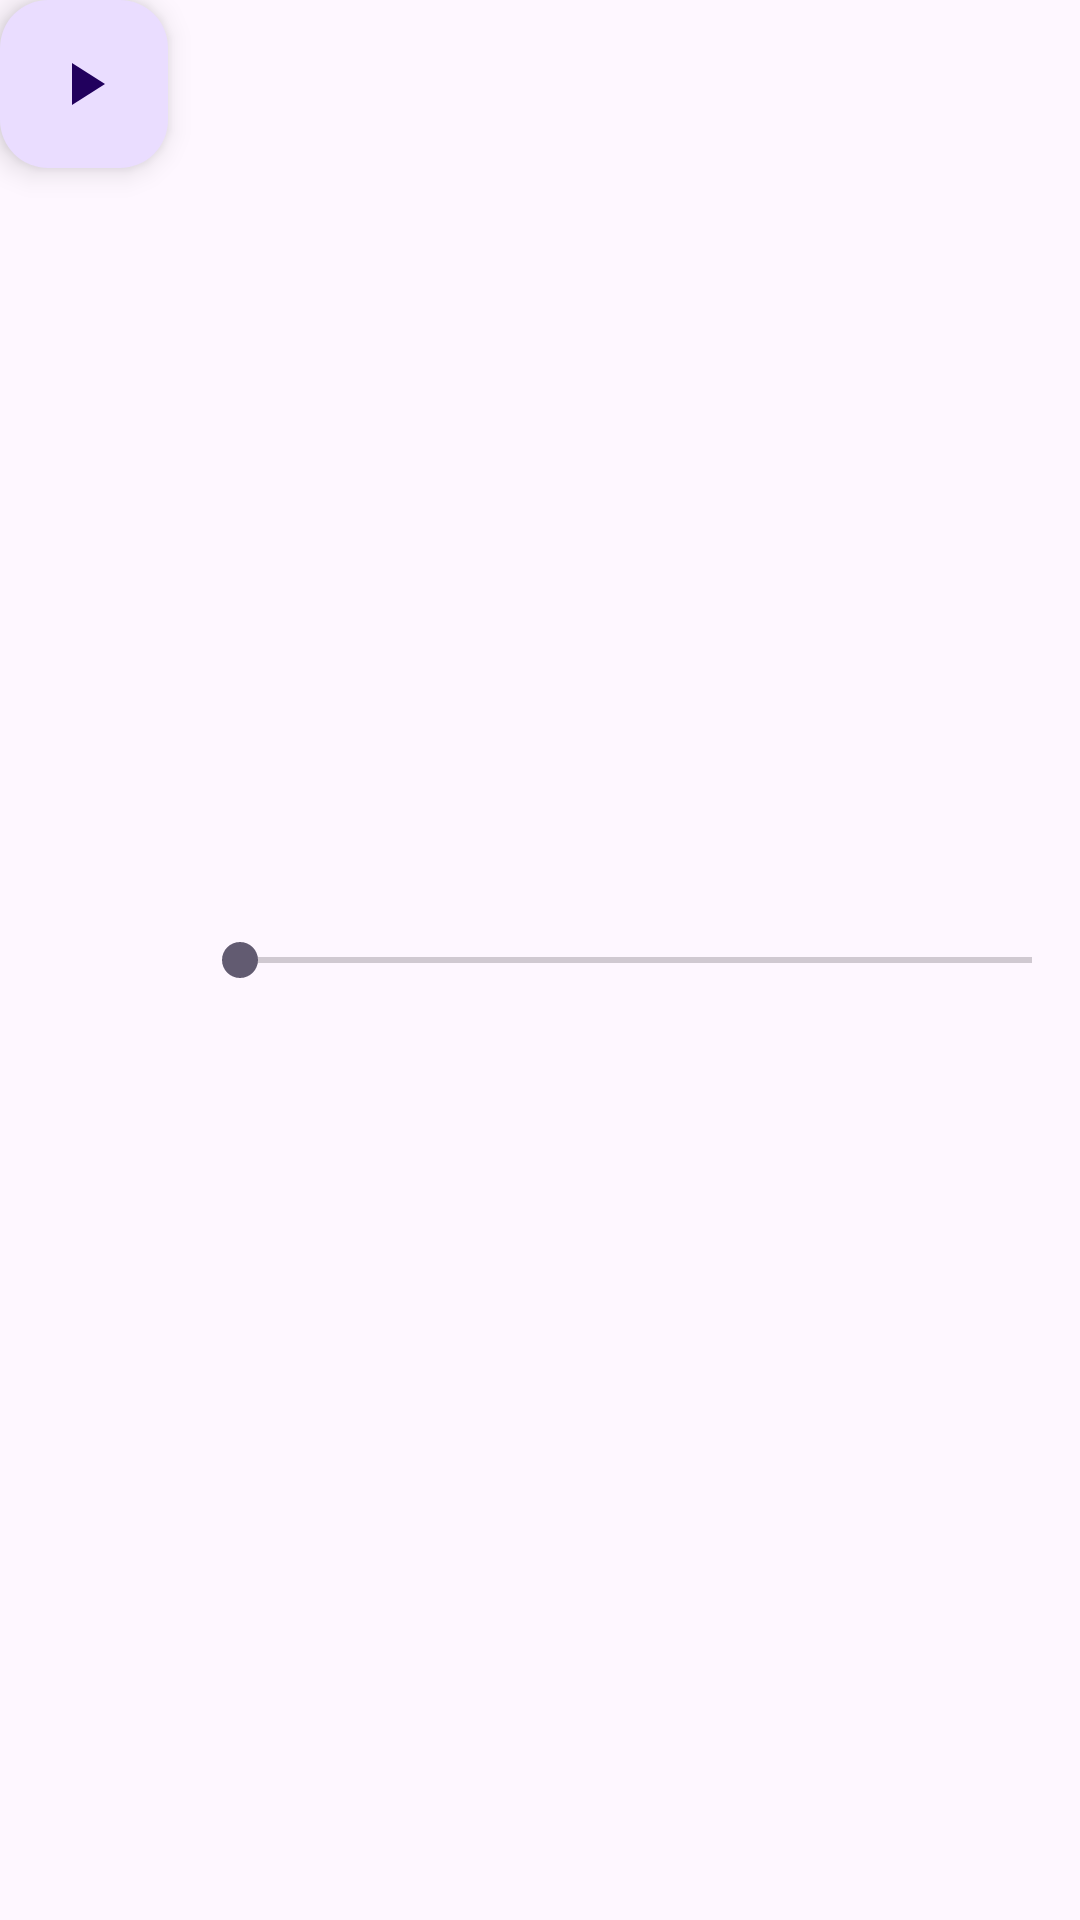

Icon click points for this 1080×1920 phone screenshot, format point (x, y):
Play/Pause/Stop: point (88, 84)
